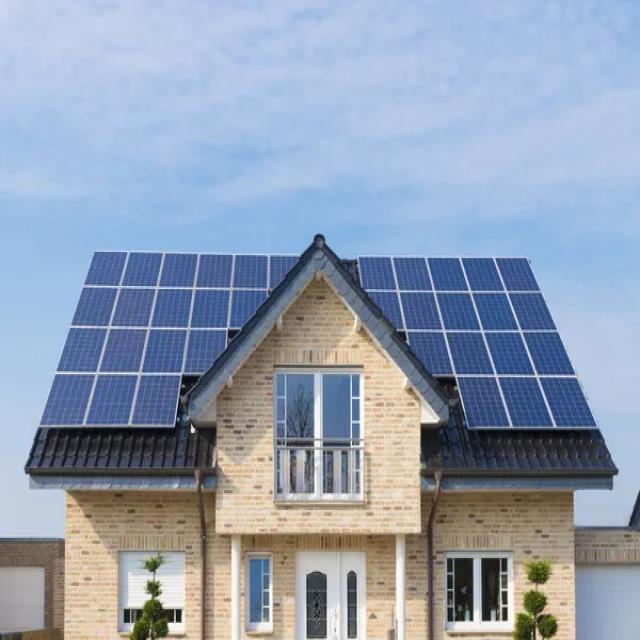clean-solar-panel: (40, 249, 300, 429), (345, 257, 596, 429)
